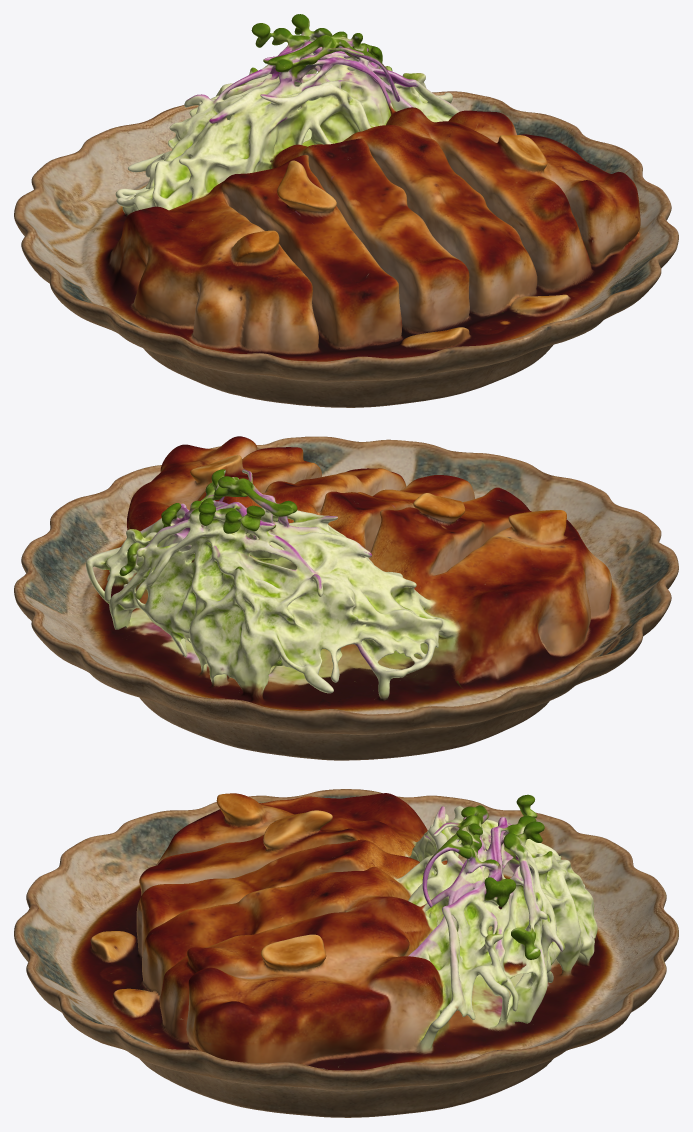
The model's file is 31fc93b2-c676-4c62-b623-ce46cea79a48.glb.
3 renders of one model, top to bottom at view 1: azimuth 30°, elevation 25°; view 2: azimuth 150°, elevation 25°; view 3: azimuth 270°, elevation 25°, orthographic.
Bounding box in the file's own units: 1.9 × 0.7137 × 1.87.
Materials: 1 (1 with a texture image).
